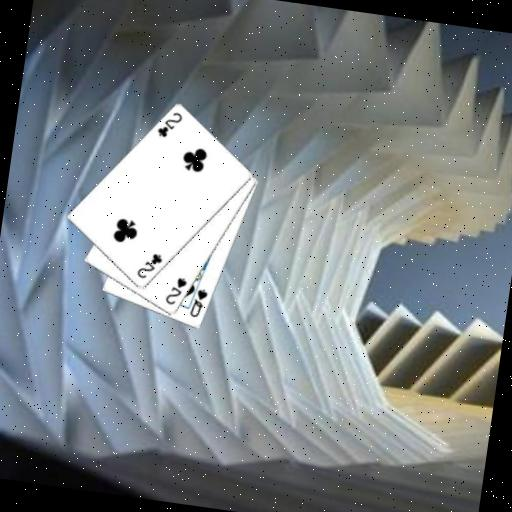2C: (133, 248, 165, 283), (154, 106, 185, 141)
2S: (162, 273, 190, 308)
QS: (186, 285, 210, 321)
